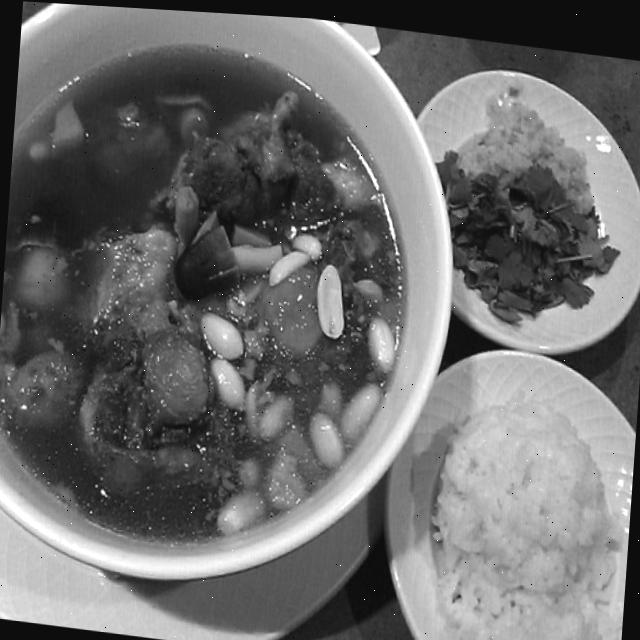汤锅炖物: (0, 0, 451, 623)
